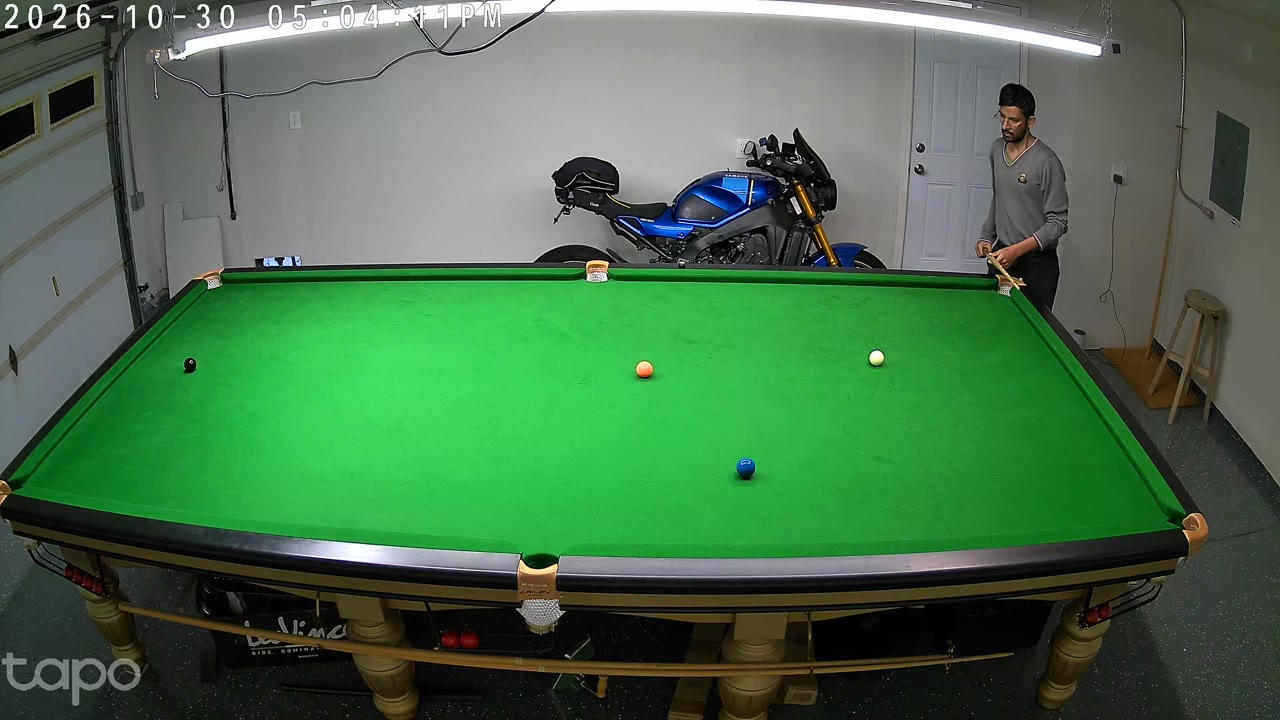black: (184, 356, 196, 376)
blue: (737, 456, 755, 482)
pink: (636, 360, 653, 381)
white: (869, 348, 884, 369)
